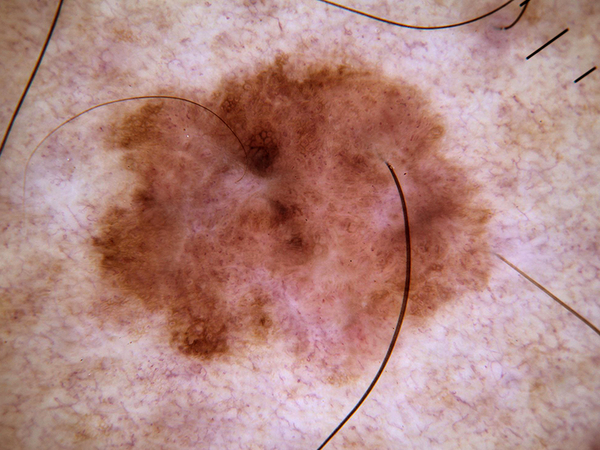Color changes: (243, 131, 267, 159)
